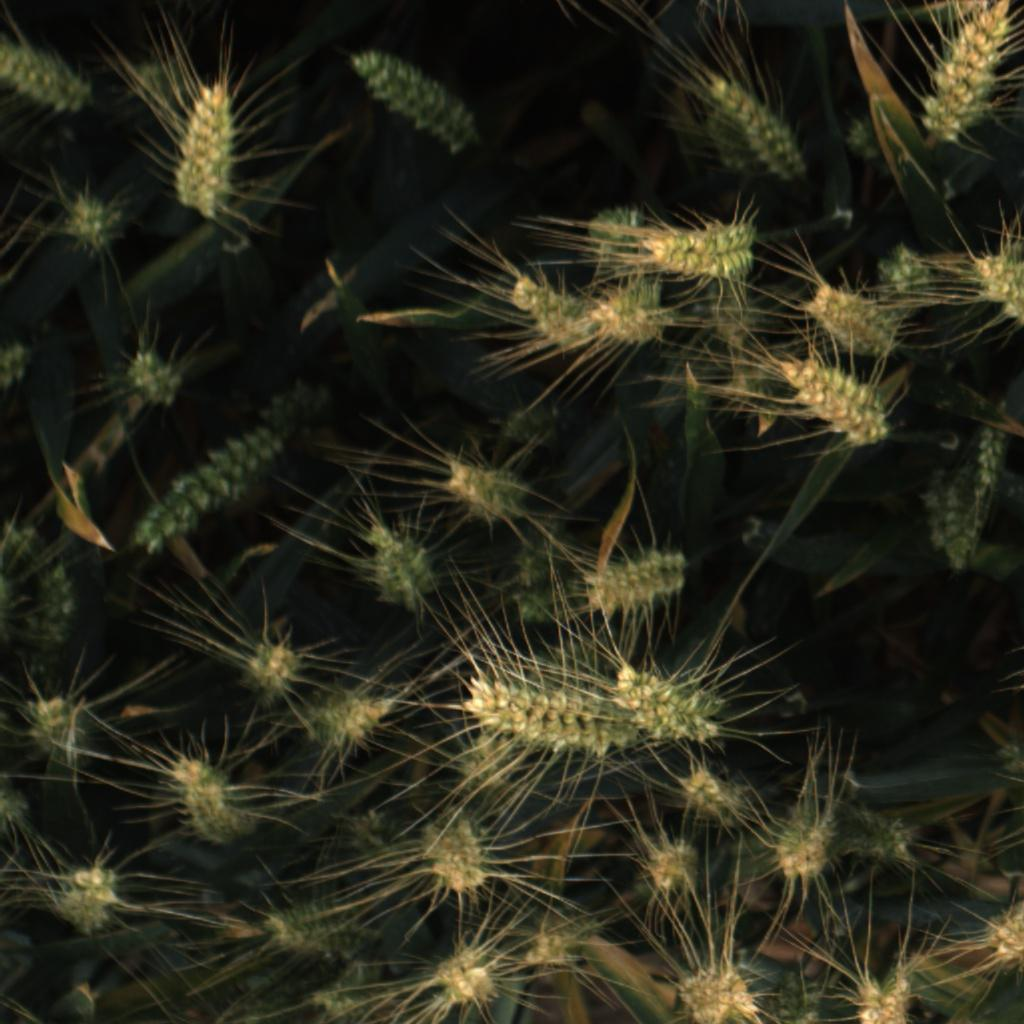0-0: (133, 427, 289, 559), (340, 41, 476, 155), (916, 0, 1016, 145), (450, 673, 619, 753), (705, 71, 814, 185), (610, 663, 738, 751), (169, 68, 246, 210), (775, 354, 885, 446), (162, 744, 259, 846), (640, 216, 766, 286), (797, 270, 895, 355), (586, 543, 695, 615), (2, 31, 96, 113), (721, 361, 829, 432), (262, 896, 374, 964), (433, 449, 533, 524), (412, 813, 497, 899), (927, 466, 994, 575), (358, 518, 437, 603), (499, 272, 587, 348), (304, 688, 401, 753), (844, 109, 915, 196), (47, 856, 125, 935), (769, 802, 843, 883), (525, 903, 601, 979), (589, 284, 679, 348), (960, 395, 1020, 489), (23, 559, 82, 653), (673, 763, 755, 829), (670, 966, 759, 1024), (229, 639, 308, 704), (688, 285, 765, 351), (118, 338, 186, 412), (577, 199, 649, 268), (431, 948, 506, 1013), (455, 726, 529, 790), (968, 242, 1024, 326), (508, 575, 593, 630), (28, 689, 89, 765), (843, 808, 919, 868), (64, 183, 128, 254), (511, 521, 584, 582), (301, 969, 380, 1024), (847, 966, 918, 1024), (639, 831, 703, 894), (876, 241, 941, 303), (978, 895, 1024, 968), (765, 972, 825, 1024)
